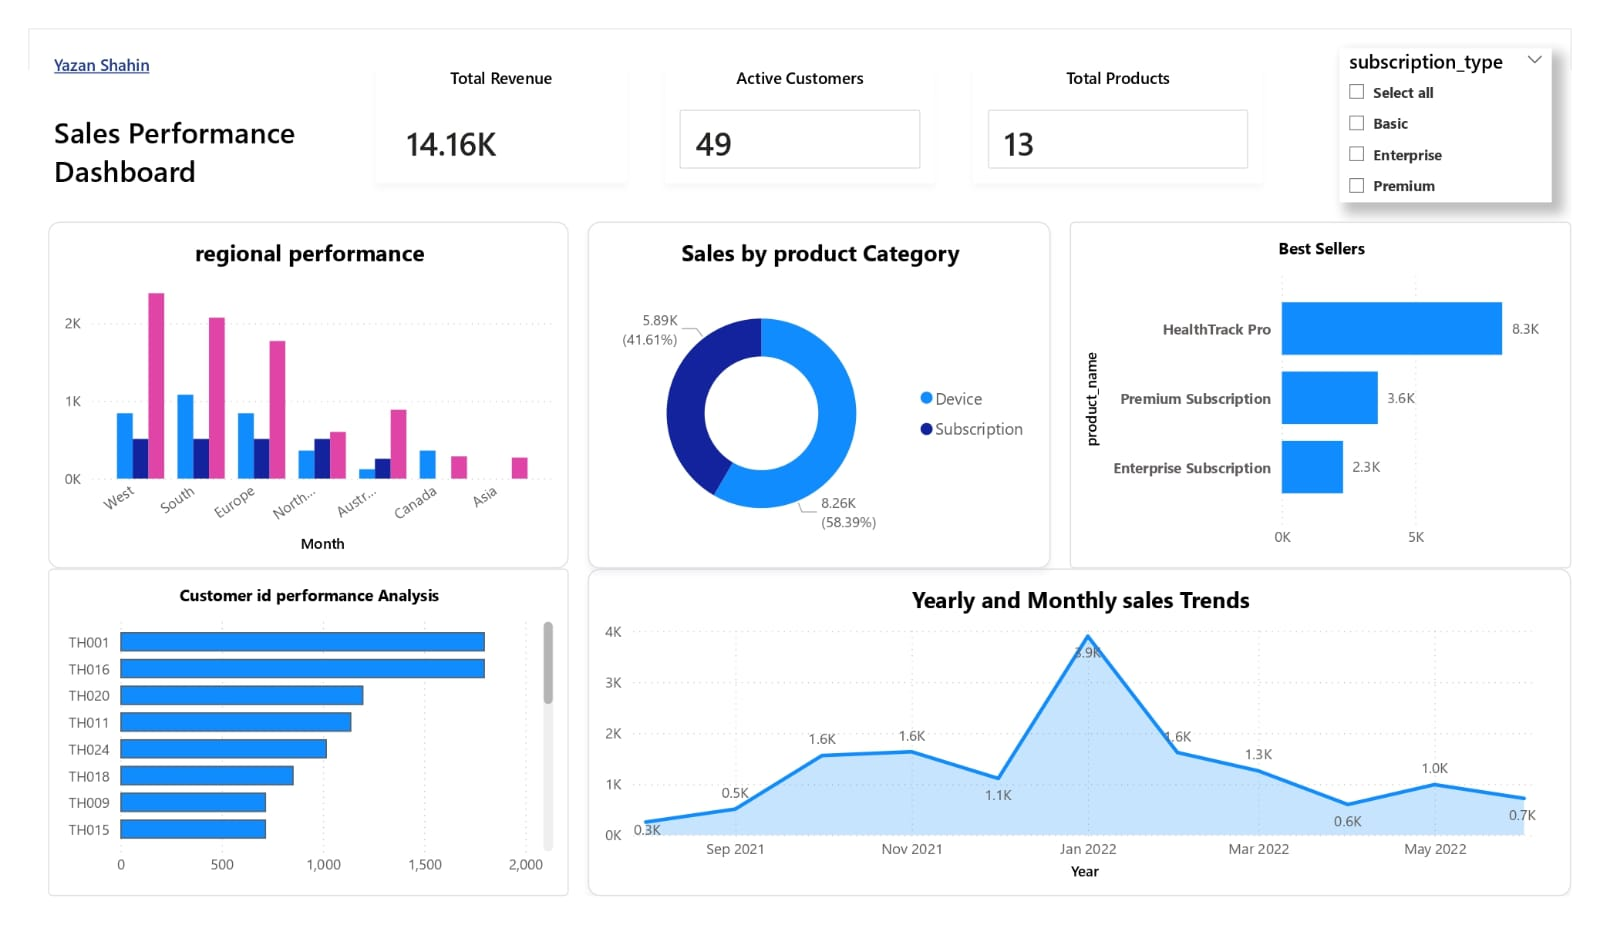

The dashboard page shown, as its layout file describes it:
{"tool":"powerbi","page":{"name":"Sales Dashboard","canvas":[1280,720],"ordinal":0},"visuals":[{"type":"lineChart","title":"Yearly and Monthly sales Trends","fields":{"Y":["Sum(FactSales.total_amount)"],"Category":["DimDate.date.Variation.Date Hierarchy.Year","DimDate.date.Variation.Date Hierarchy.Quarter","DimDate.date.Variation.Date Hierarchy.Month","DimDate.date.Variation.Date Hierarchy.Day"]},"box":[464,448,816,272],"z":0},{"type":"clusteredColumnChart","title":"regional performance","fields":{"Category":["DimLocation.region"],"Y":["Sum(FactSales.total_amount)"],"Series":["DimCustomer.subscription_type"]},"box":[16,160,432,288],"z":1000},{"type":"slicer","fields":{"Values":["DimCustomer.subscription_type"]},"box":[1088,16,176,128],"z":2000},{"type":"cardVisual","title":"Total Revenue","fields":{"Data":["Sum(FactSales.total_amount)"]},"box":[288,32,208,96],"z":3000},{"type":"cardVisual","title":"Active Customers","fields":{"Data":["Count(DimCustomer.customer_key)"]},"box":[528,32,224,96],"z":4000},{"type":"cardVisual","title":"Total Products","fields":{"Data":["Count(DimProduct.product_key)"]},"box":[784,32,240,96],"z":5000},{"type":"donutChart","title":"Sales by product Category","fields":{"Category":["DimProduct.product_category"],"Y":["Sum(FactSales.total_amount)"]},"box":[464,160,384,288],"z":6000},{"type":"textbox","box":[16,64,224,80],"z":8000},{"type":"clusteredBarChart","title":"Best Sellers","fields":{"Category":["DimProduct.product_name"],"Y":["Sum(FactSales.total_amount)"]},"box":[864,160,416,288],"z":9000},{"type":"textbox","box":[16,16,112,32],"z":10000},{"type":"clusteredBarChart","title":"Customer id performance Analysis","fields":{"Category":["DimCustomer.user_id"],"Y":["Sum(FactSales.total_amount)"]},"box":[16,448,432,272],"z":11000}]}

Visuals, with their boxes in screenshot pixels (x1, y1, x2, y2), scaled from the page's 1280x720 canvas onto the 1600x925 screenshot:
"Yearly and Monthly sales Trends" lineChart: 580,576,1599,924
"regional performance" clusteredColumnChart: 20,206,560,576
slicer - DimCustomer.subscription_type: 1360,21,1580,185
"Total Revenue" cardVisual: 360,41,620,164
"Active Customers" cardVisual: 660,41,940,164
"Total Products" cardVisual: 980,41,1280,164
"Sales by product Category" donutChart: 580,206,1060,576
textbox: 20,82,300,185
"Best Sellers" clusteredBarChart: 1080,206,1599,576
textbox: 20,21,160,62
"Customer id performance Analysis" clusteredBarChart: 20,576,560,924
